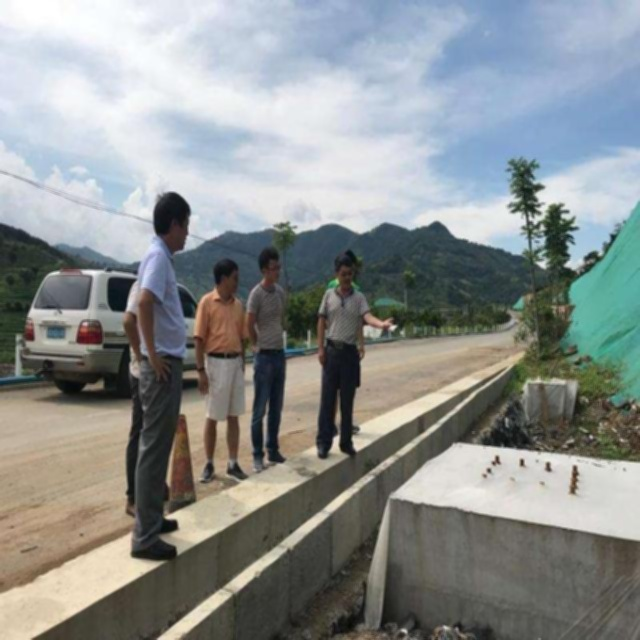Sin_Chaleco: (198, 292, 248, 364), (320, 288, 367, 355), (247, 284, 287, 350)
